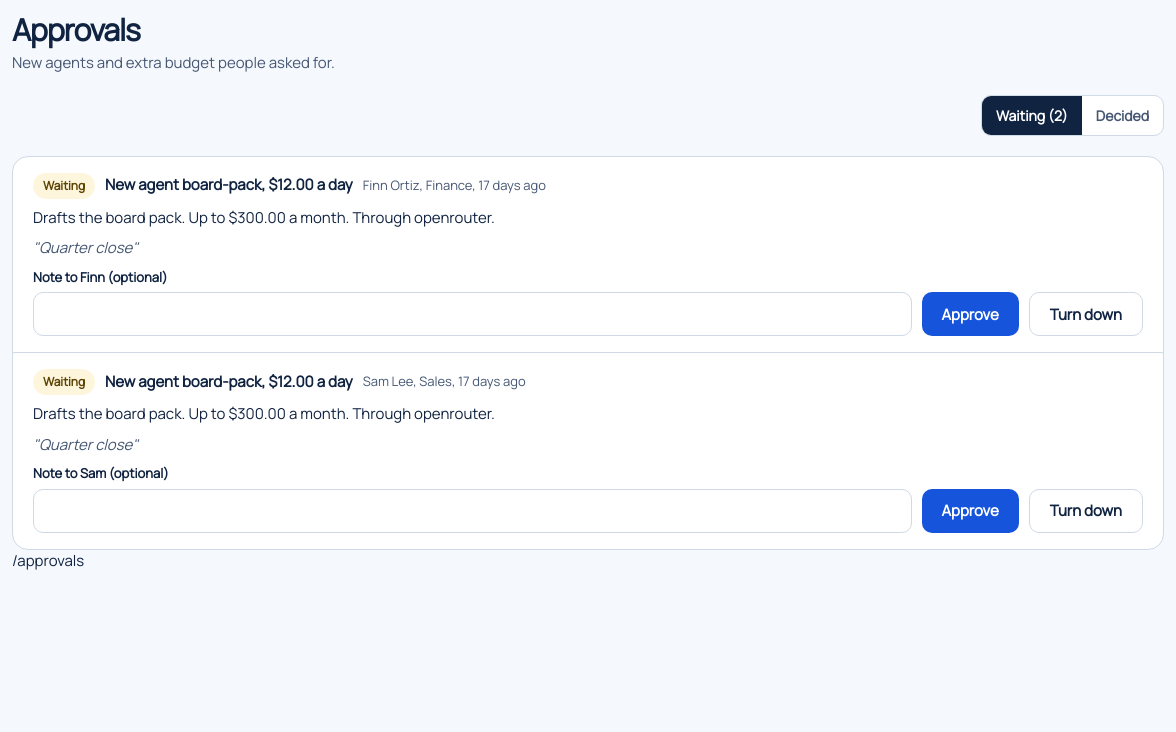
Test: requests and approvals › approves with a note, turns down, and shows decided ones
Expected: the button "Waiting (2)" is shown, x1=982 y1=96 x2=1082 y2=134
Expected: the text "Drafts the board pack" is shown 2 times, x1=33 y1=206 x2=495 y2=228; x1=33 y1=403 x2=495 y2=424
Step 1. Type "OK for Q4" into the field labelled "Note to Finn (optional)" → (472, 314), box x1=33 y1=292 x2=912 y2=336
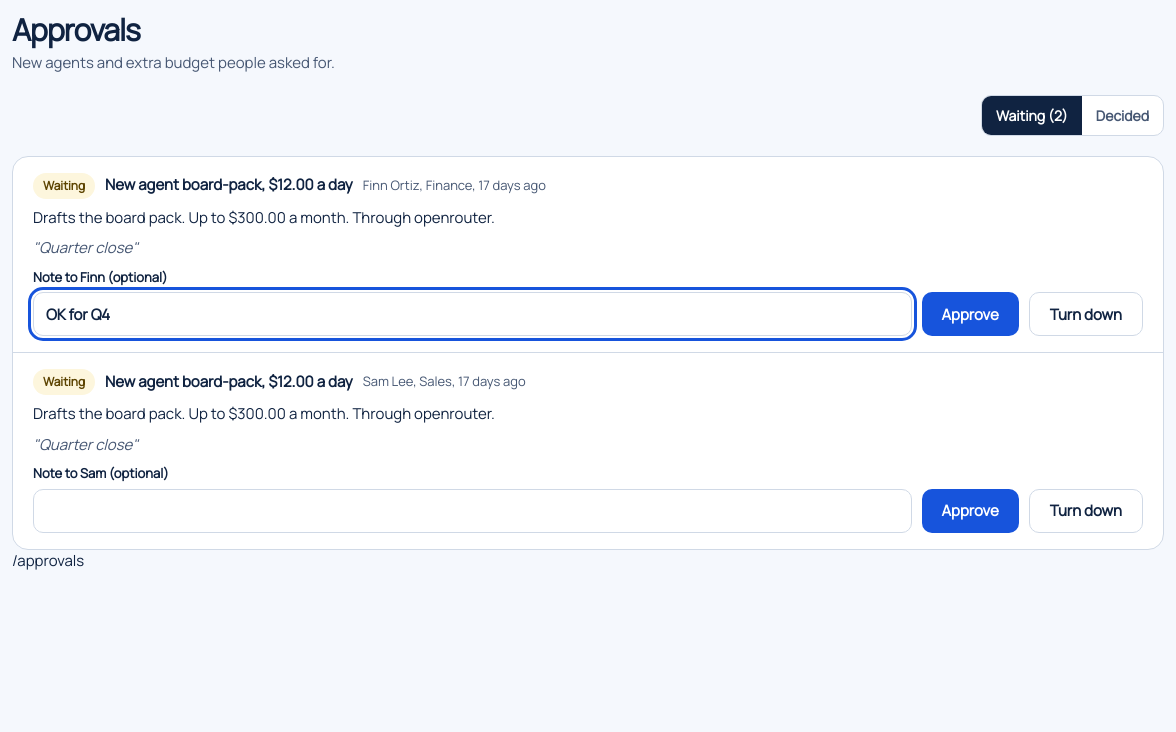
Step 2. Click the 1st button "Approve" → (970, 314), box x1=922 y1=292 x2=1019 y2=336
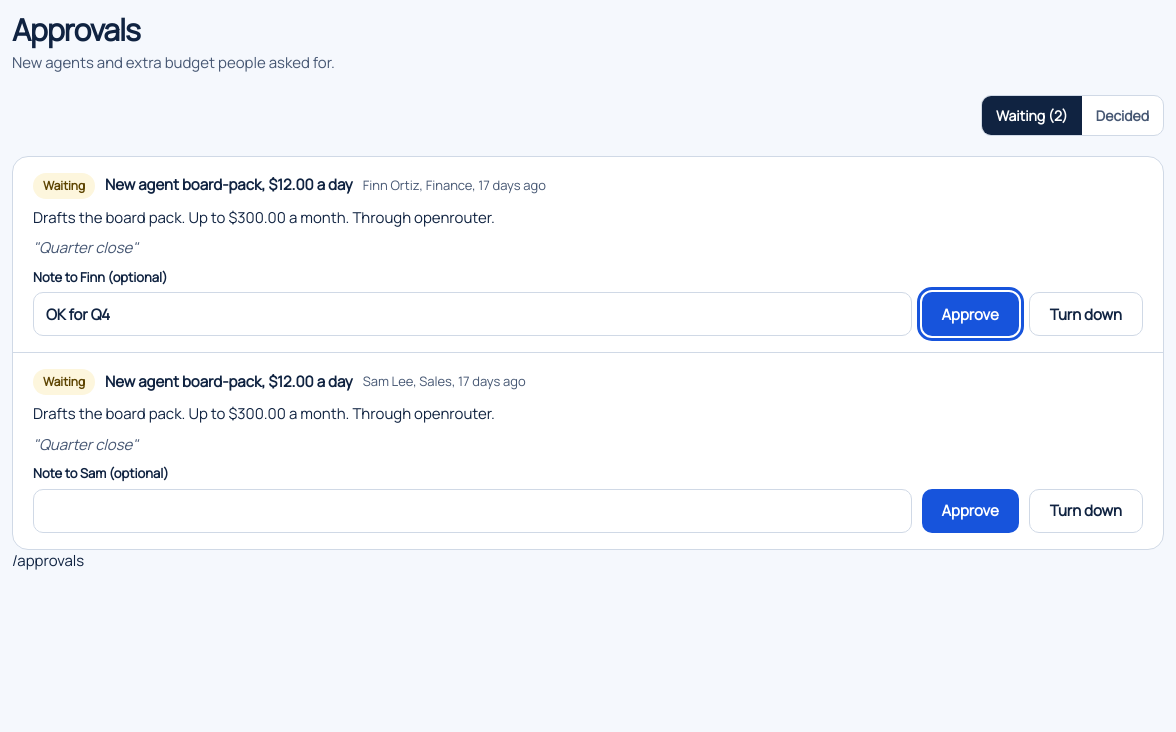
Step 3. Click the 2nd button "Turn down" → (1086, 510), box x1=1029 y1=488 x2=1143 y2=532
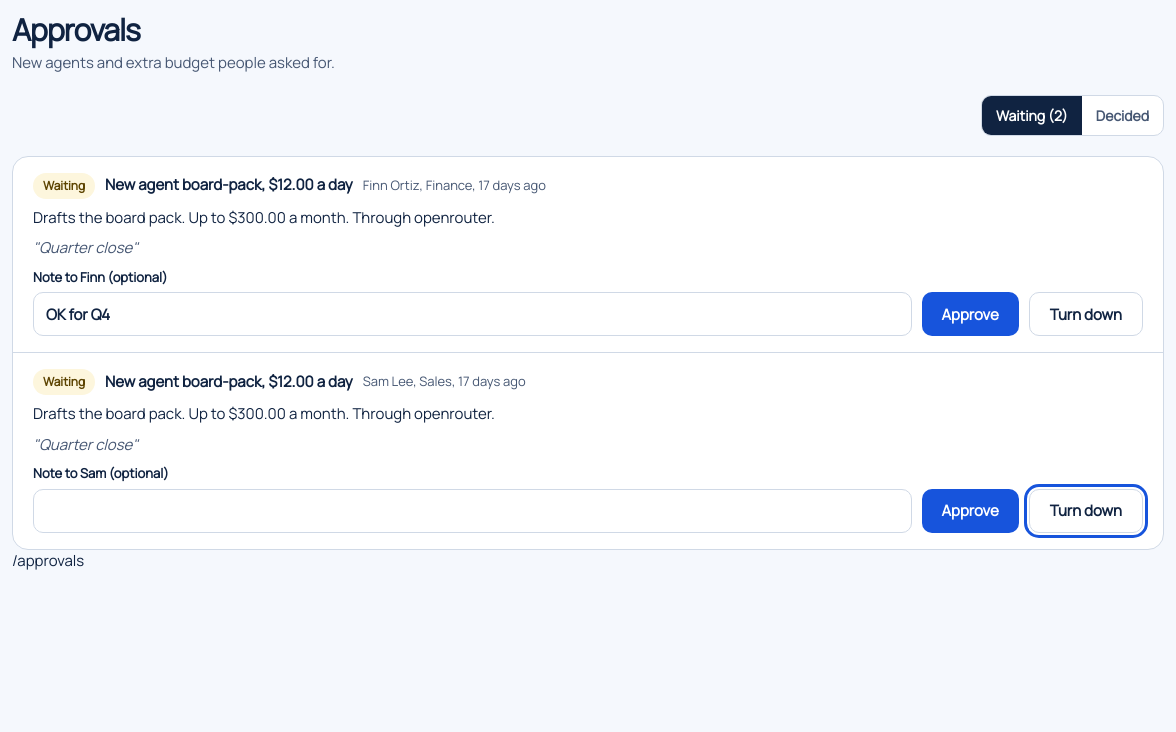
Step 4. Click the button "Decided" → (1122, 115), box x1=1082 y1=96 x2=1163 y2=134
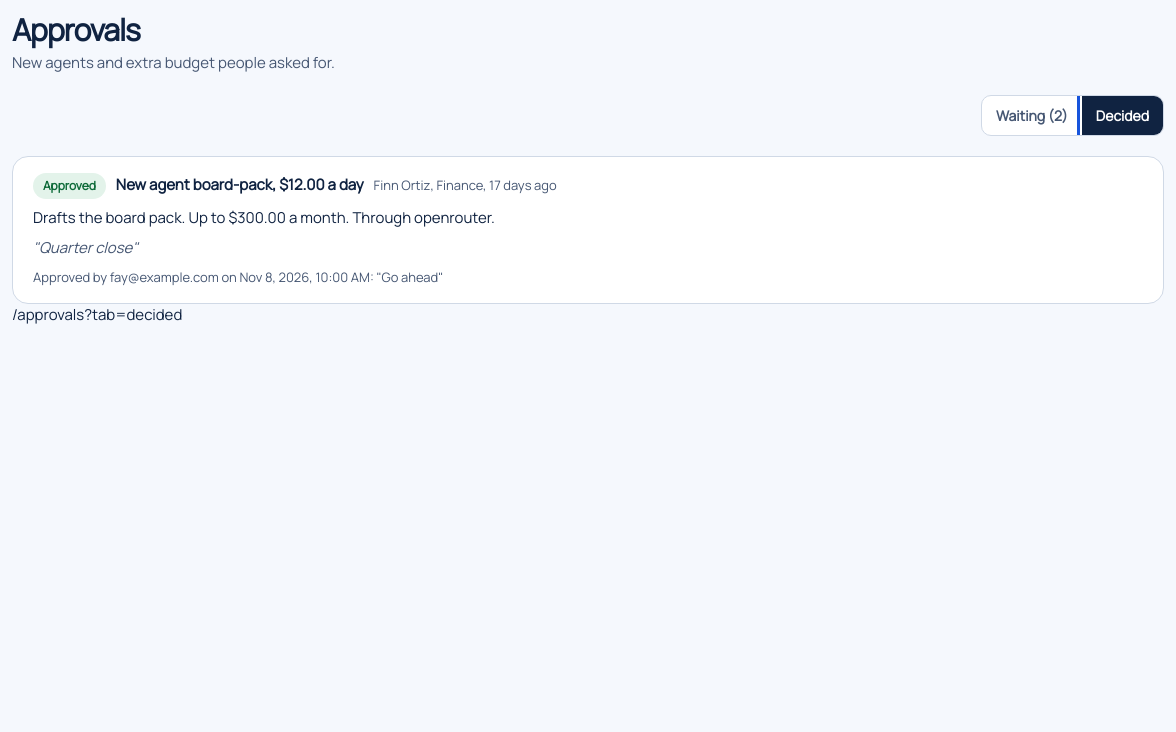
Expected: the text with test id "location" shows "tab=decided", x1=12 y1=304 x2=182 y2=325
Expected: the text "\"Go ahead\"" is shown, x1=370 y1=268 x2=443 y2=286
